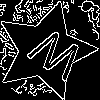W: (20, 25, 87, 91)
